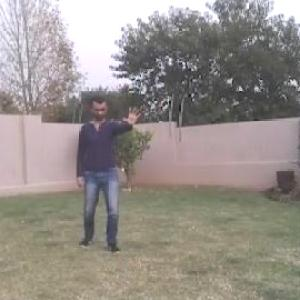follow_hand: (121, 102, 145, 128)
